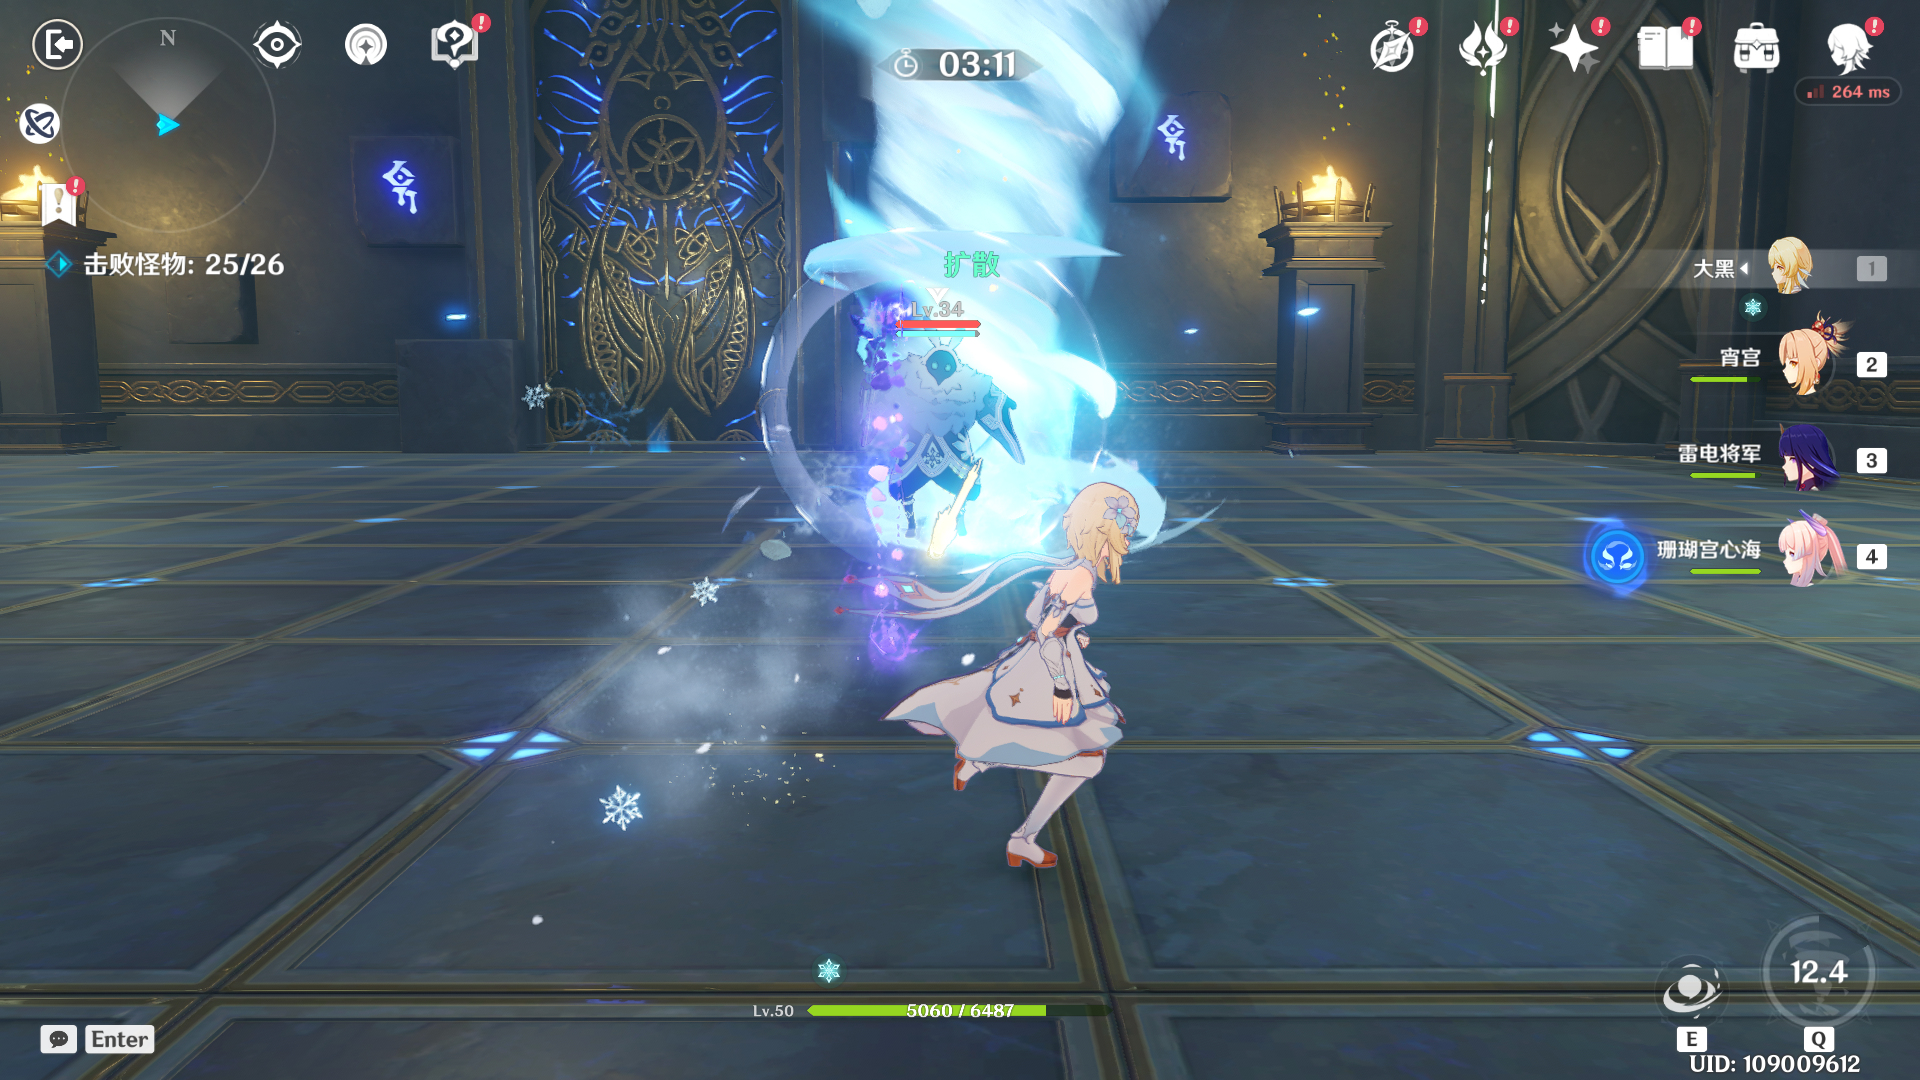caster: (847, 319, 1025, 545)
character: (895, 481, 1170, 889)
